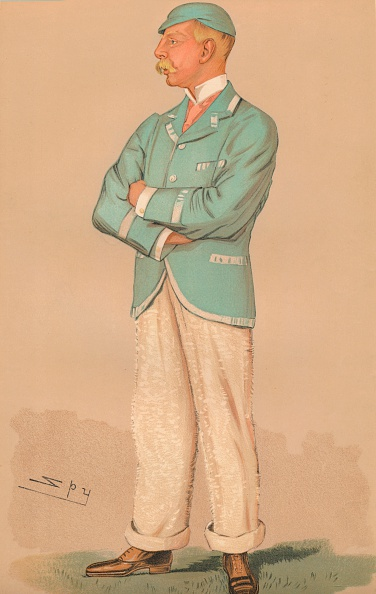em pe: (88, 0, 271, 594)
